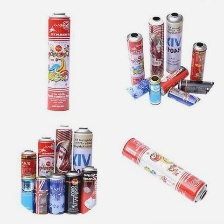aerosol_cans: (117, 136, 212, 206), (44, 9, 73, 113), (71, 125, 94, 192), (162, 10, 185, 74), (35, 132, 56, 194), (54, 121, 73, 188), (15, 147, 38, 200), (149, 15, 166, 77), (126, 30, 144, 87), (187, 39, 209, 83)
can: (153, 62, 191, 95), (61, 167, 84, 216), (77, 162, 98, 214), (121, 74, 155, 106), (46, 170, 68, 216), (16, 172, 38, 217), (174, 77, 218, 97), (165, 85, 203, 108), (31, 173, 51, 216), (147, 74, 162, 106)
